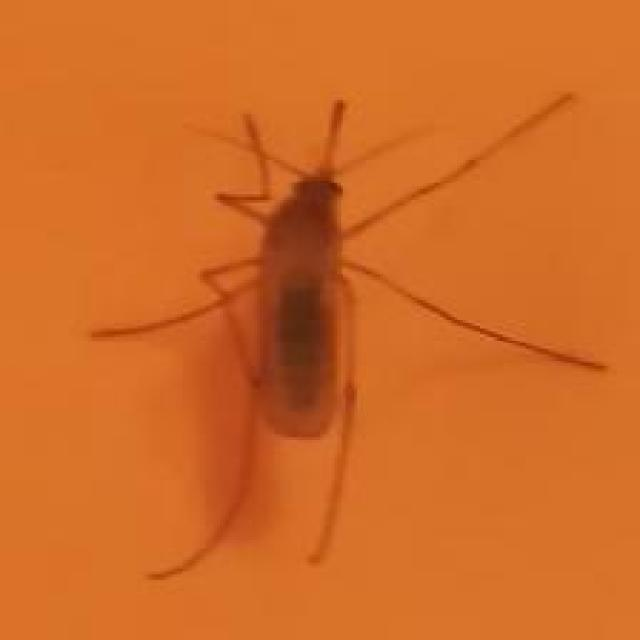Culex: (86, 87, 608, 582)
